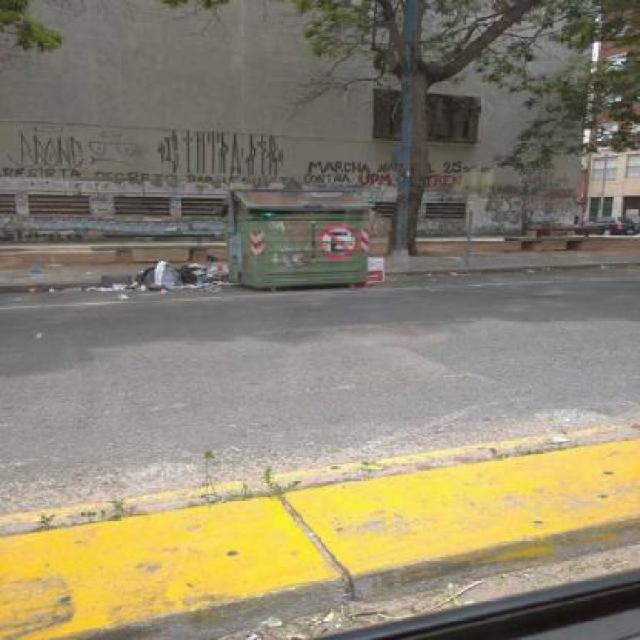garbage: (105, 256, 252, 302)
